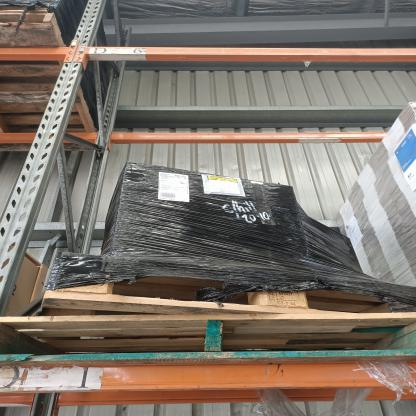label: (157, 168, 188, 209), (203, 174, 248, 200)
package: (99, 157, 380, 295)
